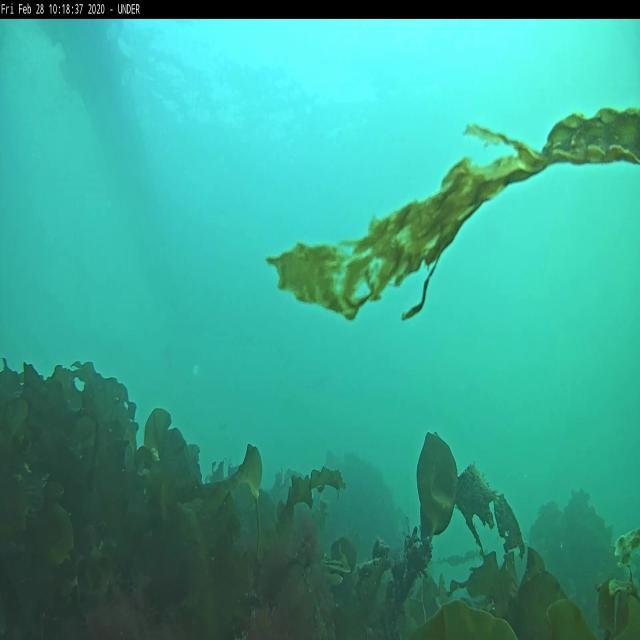fish: (326, 558, 350, 574)
